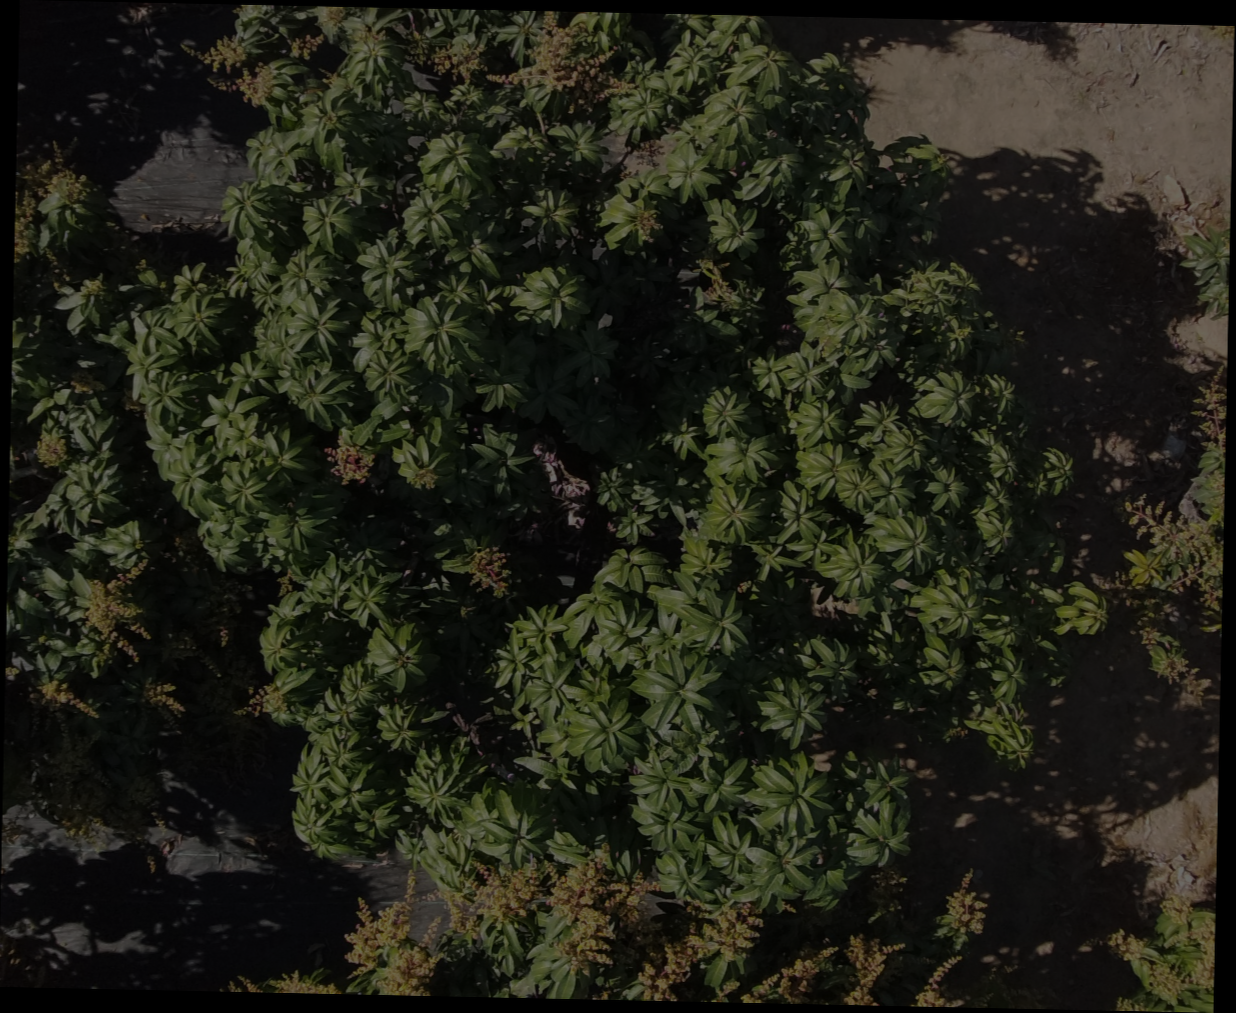flowers: (443, 845, 656, 971), (25, 698, 162, 836), (488, 11, 627, 117), (638, 903, 762, 1002), (740, 932, 902, 1004), (345, 871, 439, 995), (1122, 501, 1222, 609), (1125, 590, 1210, 703), (14, 143, 89, 263), (83, 558, 151, 661), (1155, 896, 1214, 988), (209, 61, 274, 106), (1192, 368, 1225, 453), (942, 869, 986, 933), (911, 954, 961, 1007), (36, 679, 99, 717), (430, 38, 484, 82), (323, 441, 374, 484), (466, 546, 509, 596), (868, 867, 906, 914), (235, 681, 286, 715), (197, 35, 246, 70), (274, 970, 343, 993), (142, 681, 185, 716), (1103, 928, 1147, 960), (1197, 471, 1223, 521), (35, 431, 68, 467), (347, 26, 386, 53), (289, 32, 324, 59), (314, 6, 347, 34), (7, 530, 34, 563), (219, 977, 262, 992), (1114, 998, 1146, 1011), (1208, 25, 1233, 39), (590, 989, 609, 999)
